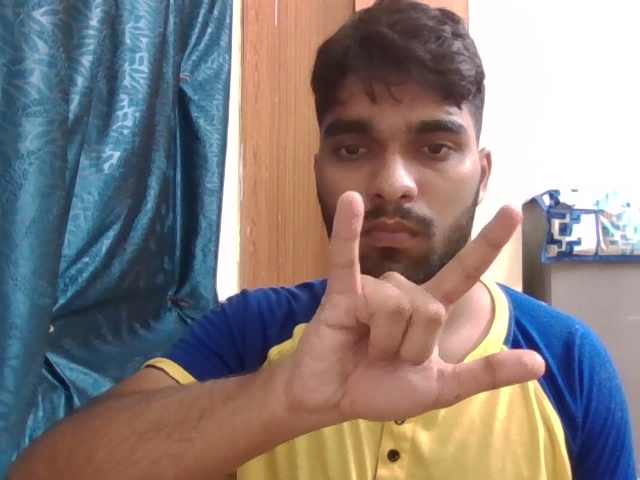I love you: (285, 184, 557, 432)
